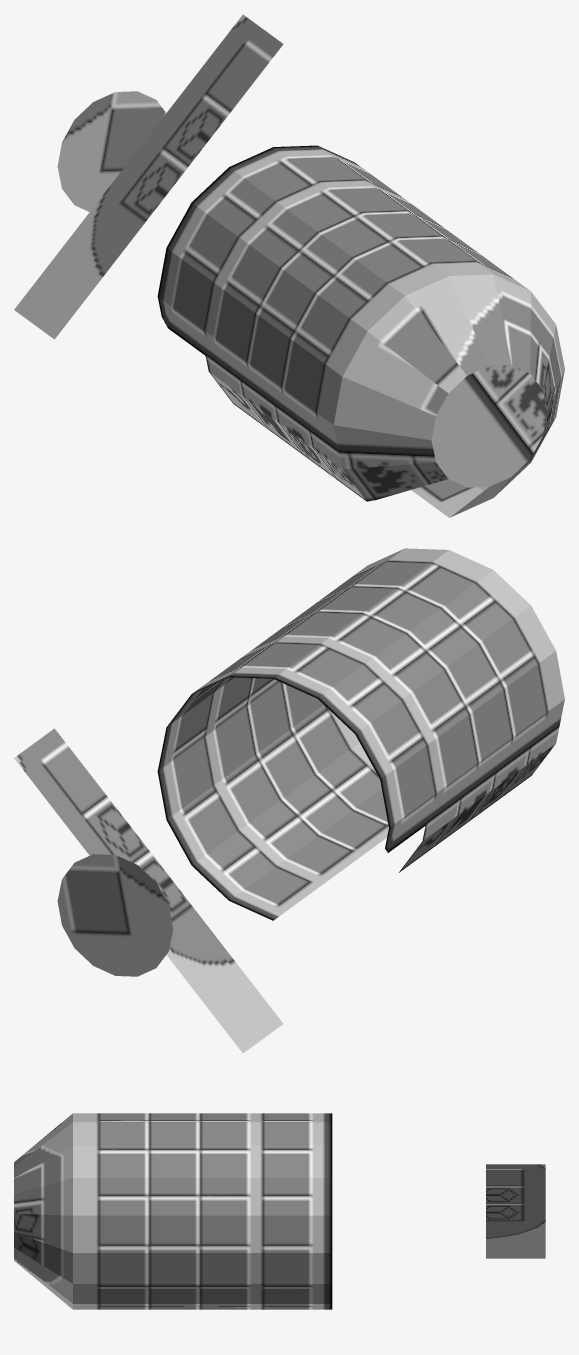
File: bomb_multi.obj
3 renders of one model, top to bottom at view 1: azimuth 30°, elevation 25°; view 2: azimuth 150°, elevation 25°; view 3: azimuth 270°, elevation 25°, orthographic. The views are drawn at different scales.
Visible parts, largest first — view 1: Cylinder; view 2: Cylinder; view 3: Cylinder.
Part boxes in pixels (x1,y1,x2,y2): Cylinder: (14,14,564,517); Cylinder: (14,548,564,1053); Cylinder: (14,1113,545,1309).
Bounding box in the file's own units: 0.5 × 0.5 × 1.4.
